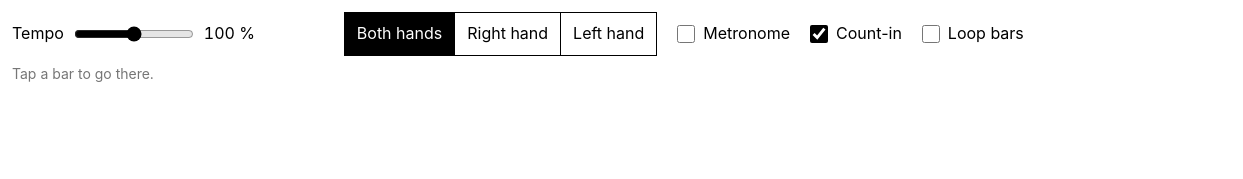
Test case: the loop as one checkbox (spec 13) › still refuses a range typed in reverse, with the message
The width and height of the screenshot is (1243, 179).
Click the checkbox labelled "Loop bars" at [931, 34], box x1=922 y1=25 x2=940 y2=43
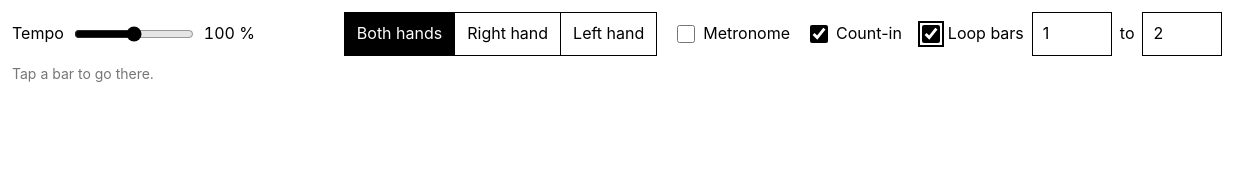
Replace the text in the number field named "Loop from bar" with "6" at [1072, 34], box x1=1032 y1=12 x2=1112 y2=56
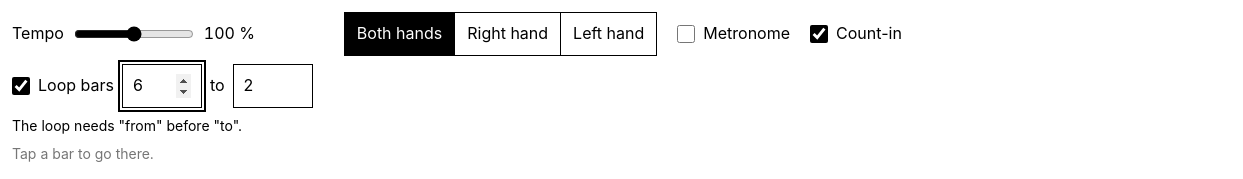
Clear the number field named "Loop to bar" at [273, 86], box x1=233 y1=64 x2=313 y2=108
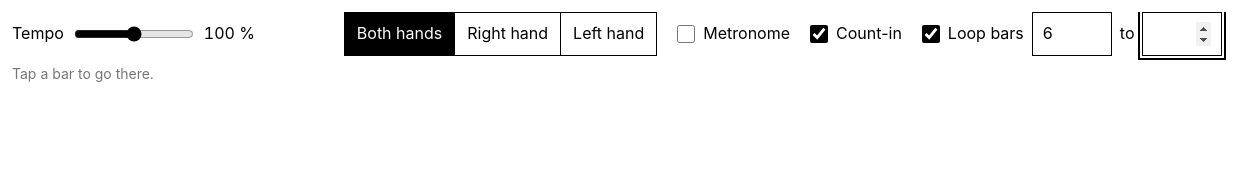
Type "2" into the number field named "Loop to bar" at [1182, 34], box x1=1142 y1=12 x2=1222 y2=56
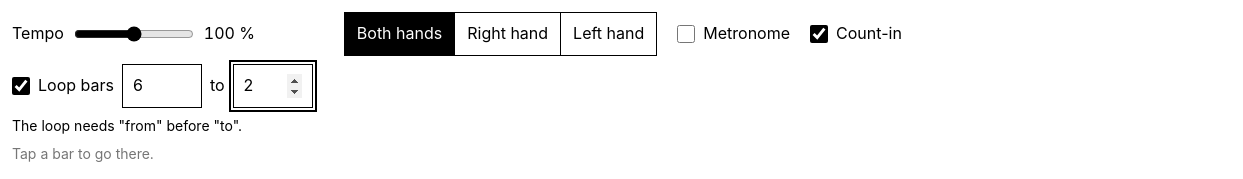
Expected: the text "The loop needs \"from\" before \"to\"." is shown, x1=12 y1=117 x2=242 y2=134
